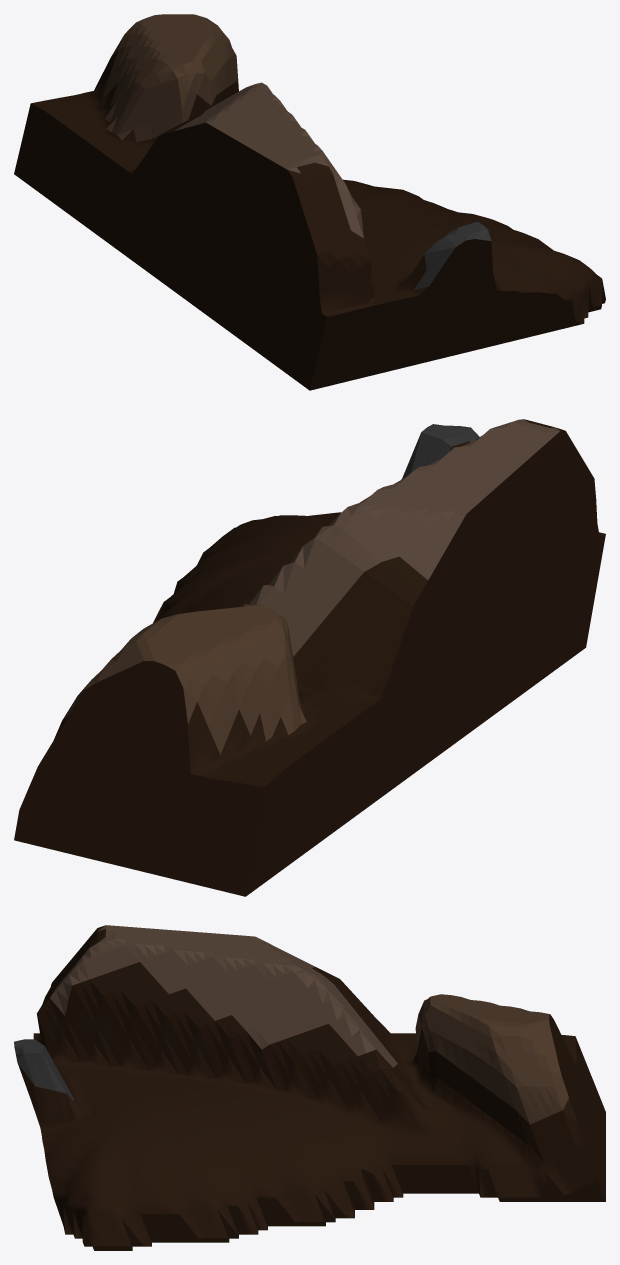
Rendered from ixm_boss_203.glb.
The picture shows the model from 3 angles, top to bottom: view 1: azimuth 30°, elevation 25°; view 2: azimuth 150°, elevation 25°; view 3: azimuth 270°, elevation 25°; orthographic projection. The views are drawn at different scales.
Visible parts, largest first — view 1: ixm_boss_203; view 2: ixm_boss_203; view 3: ixm_boss_203.
Part boxes in pixels (x1,y1,x2,y2): ixm_boss_203: [14, 14, 605, 390]; ixm_boss_203: [14, 419, 605, 896]; ixm_boss_203: [14, 925, 605, 1250].
Size of the model in its own units: 17 by 10.82 by 30.65.
